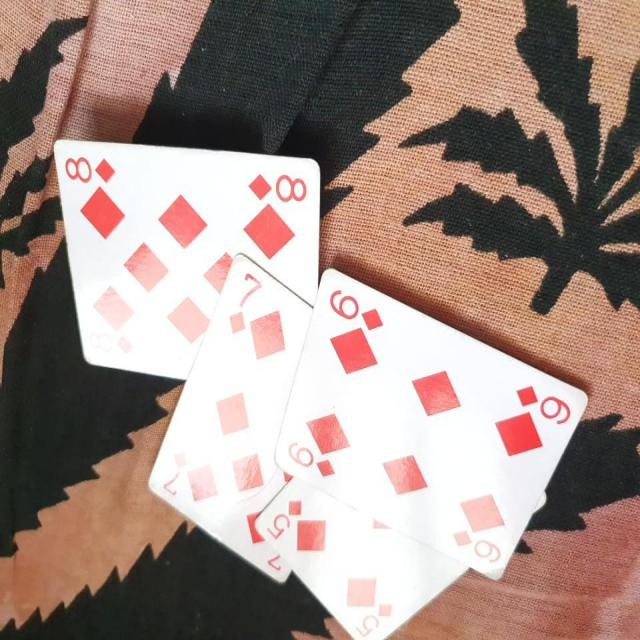5 Diamonds: (251, 472, 470, 640)
6 Diamonds: (274, 264, 591, 583)
7 Diamonds: (147, 253, 316, 586)
8 Diamonds: (53, 135, 322, 375)
